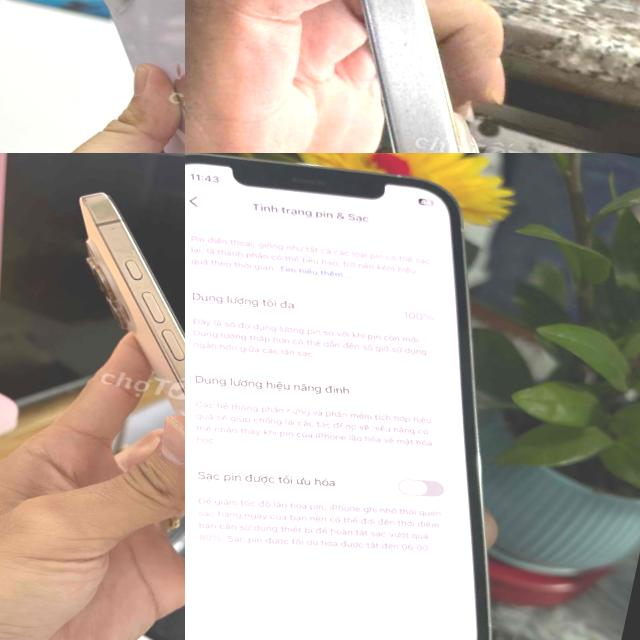gen_12_13: (185, 153, 581, 640)
gen_14: (10, 0, 185, 153)
gen_15: (251, 0, 599, 153)
gen_16: (0, 171, 185, 628)
scratch: (102, 234, 156, 274), (80, 200, 106, 223)
